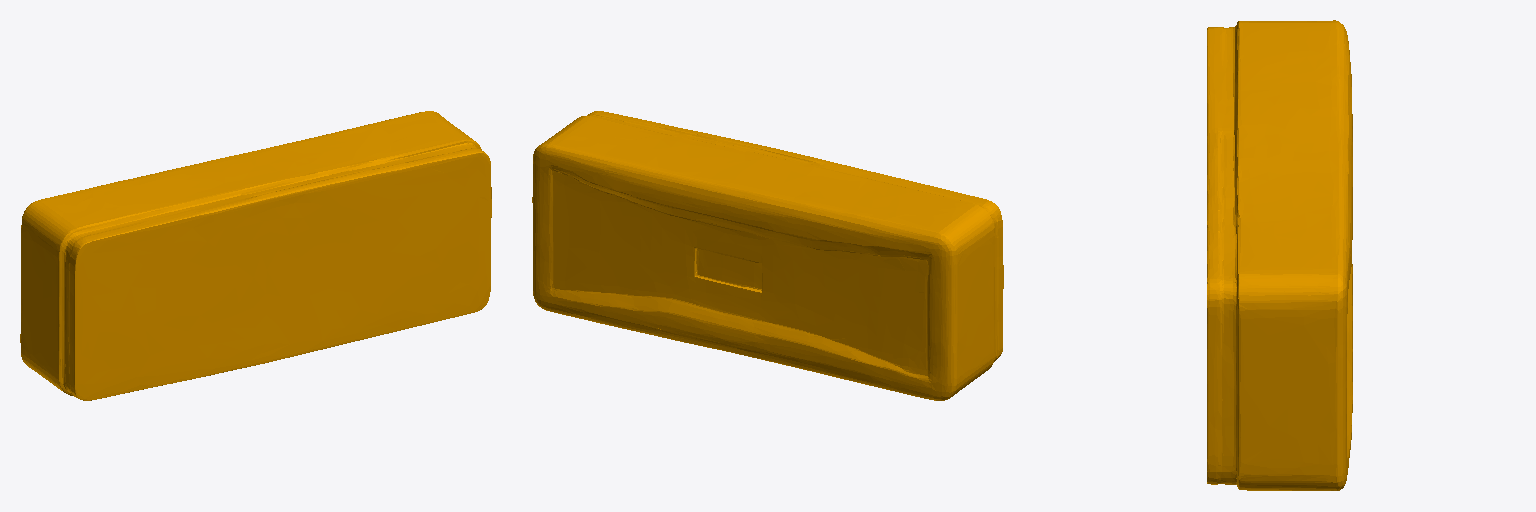
The robot description file, URDF, robot "amazon_eraser":
<?xml version="1.0"?>
<robot name="amazon_eraser">
  <link name="amazon_eraser">
    <visual>
      <origin xyz="0 0 0" rpy="0 0 0"/>
      <geometry>
        <mesh filename="amazon_eraser.obj" scale="1 1 1"/>
      </geometry>
    </visual>
    <collision>
      <origin xyz="0 0 0" rpy="0 0 0"/>
      <geometry>
        <mesh filename="amazon_eraser.obj" scale="1 1 1"/>
      </geometry>
    </collision>
    <inertial>
      <density value="400.0"/>
    </inertial>
  </link>
</robot>

--- What the picture shows (computed from the rendered views, not written in the file) ---
3 views of the same robot in one strip: view 1: azimuth 30°, elevation 25°; view 2: azimuth 150°, elevation 25°; view 3: azimuth 270°, elevation 25° (orthographic).
Model amazon_eraser with 1 links and 0 joints (none), rooted at amazon_eraser, posed every joint at zero.
Links seen in each view (by area): view 1: amazon_eraser; view 2: amazon_eraser; view 3: amazon_eraser.
Boxes of the visible links, <box> form: amazon_eraser: <box>20,111,491,400</box>; amazon_eraser: <box>532,111,1003,400</box>; amazon_eraser: <box>1207,20,1352,490</box>.
Size in the robot's own frame: 0.1248 by 0.0292 by 0.049 metres.
1 mesh visuals loaded from 1 distinct referenced files (1 OBJ).
